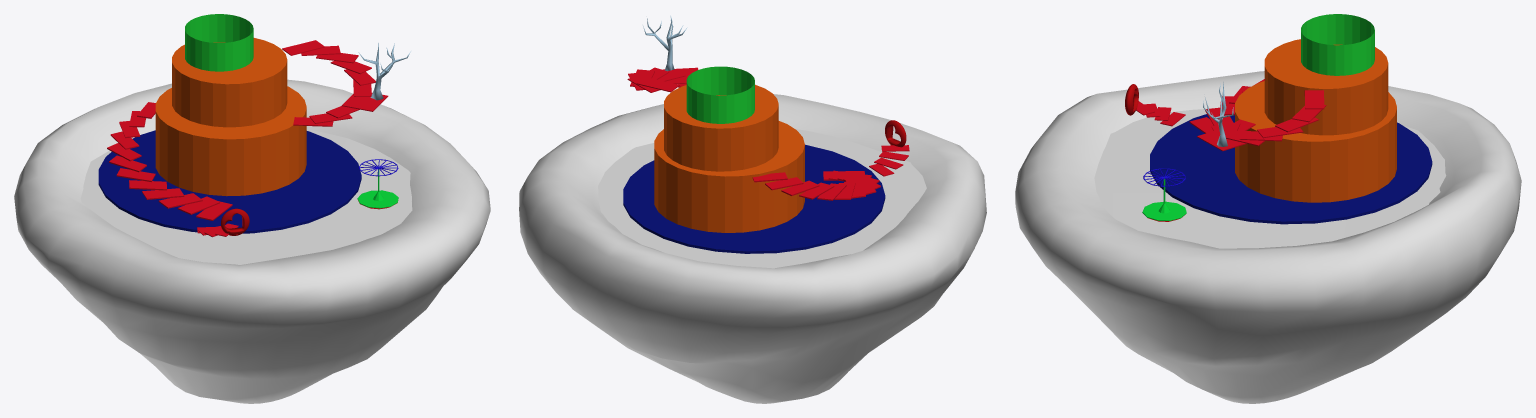
File: new_caketown_collider_230221.fbx
The picture shows the model from 3 angles, left to right: view 1: azimuth 30°, elevation 25°; view 2: azimuth 150°, elevation 25°; view 3: azimuth 270°, elevation 25°; orthographic projection. The views are drawn at different scales.
Parts seen in each view (by area): view 1: newcaketowncollider; view 2: newcaketowncollider; view 3: newcaketowncollider.
Boxes of the visible parts, <box> form: newcaketowncollider: <box>14,14,490,403</box>; newcaketowncollider: <box>519,15,986,403</box>; newcaketowncollider: <box>1015,14,1521,403</box>.
Bounding box in the file's own units: 3810 × 2997 × 3808.
